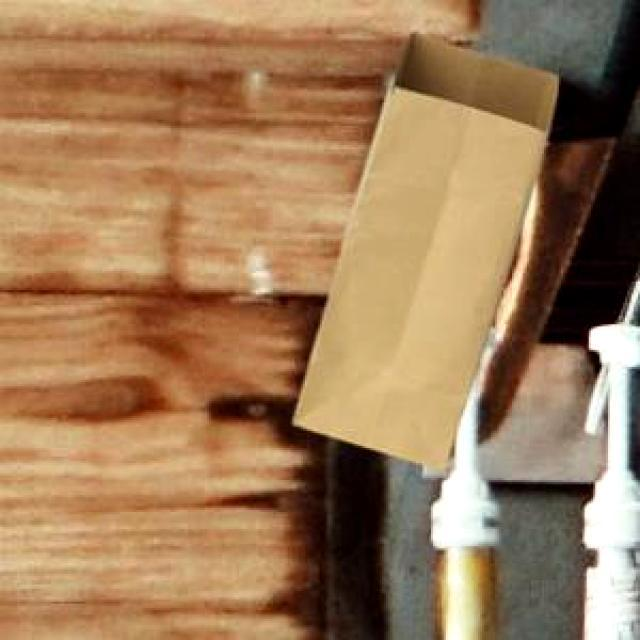Paper_Bag: (289, 31, 556, 466)
